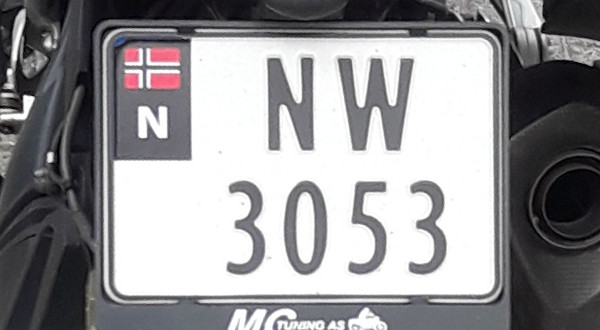license_plate: (102, 28, 506, 304)
